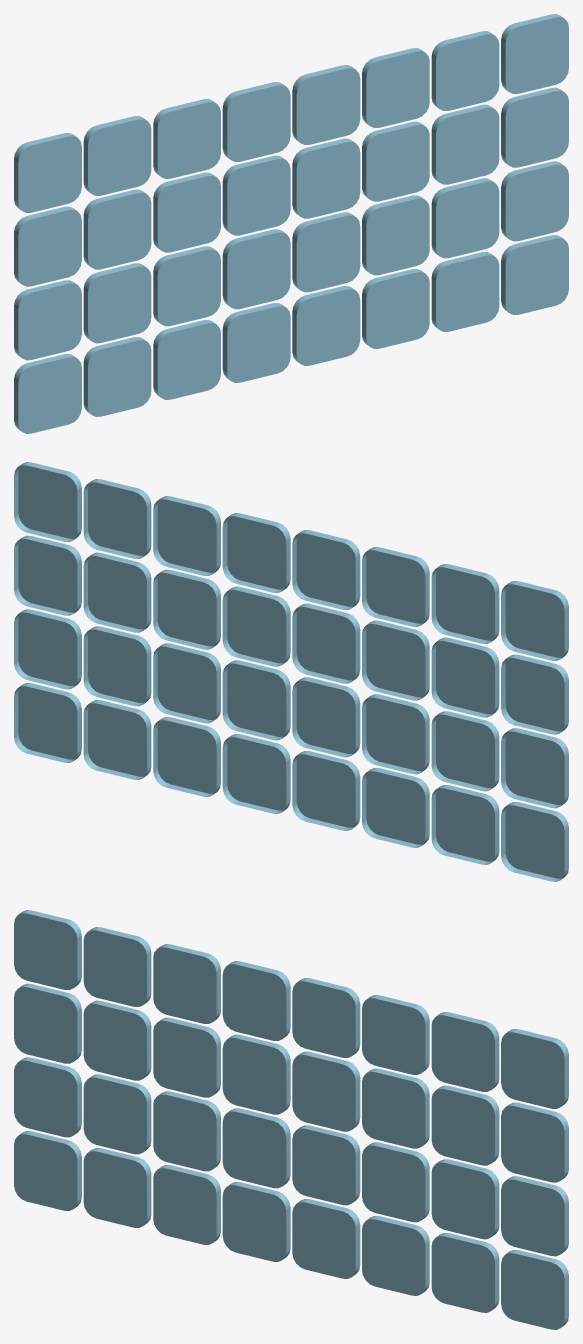
Rendered from Squares.fbx.
The picture shows the model from 3 angles, top to bottom: view 1: azimuth 30°, elevation 25°; view 2: azimuth 150°, elevation 25°; view 3: azimuth 330°, elevation 25°; orthographic projection.
Visible parts, largest first — view 1: Squares; view 2: Squares; view 3: Squares.
Boxes of the visible parts, x1,y1,x2,y2 form: Squares: (14,14,568,433); Squares: (14,462,568,881); Squares: (14,910,568,1329).
Bounding box in the file's own units: 554 × 277 × 7.72.
